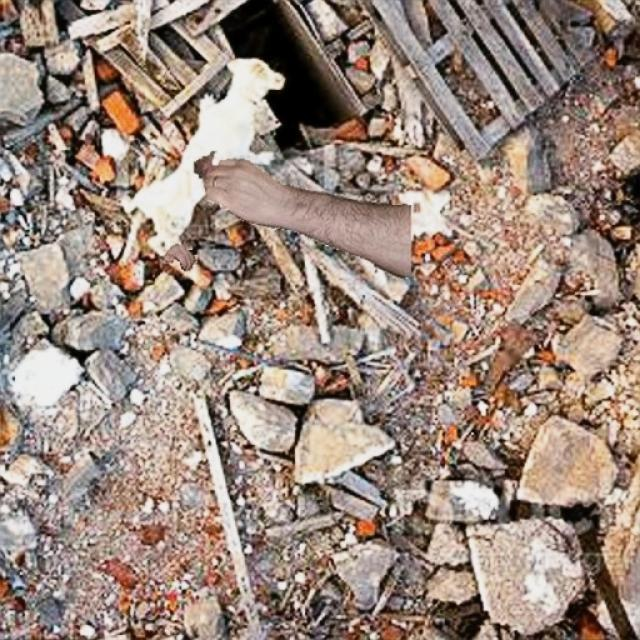Person in Rubble: (164, 151, 410, 279)
